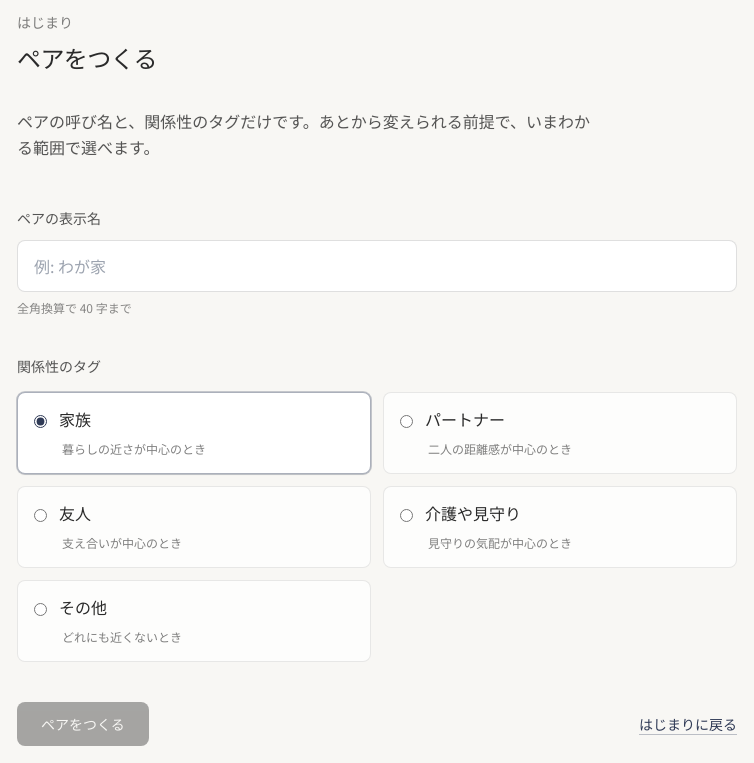
Scenario: OnboardingCreatePairPage › 表示名を入れると送信できる
In the field labelled "ペアの表示名": x=377, y=266 [17,240,737,292], type "わが家"
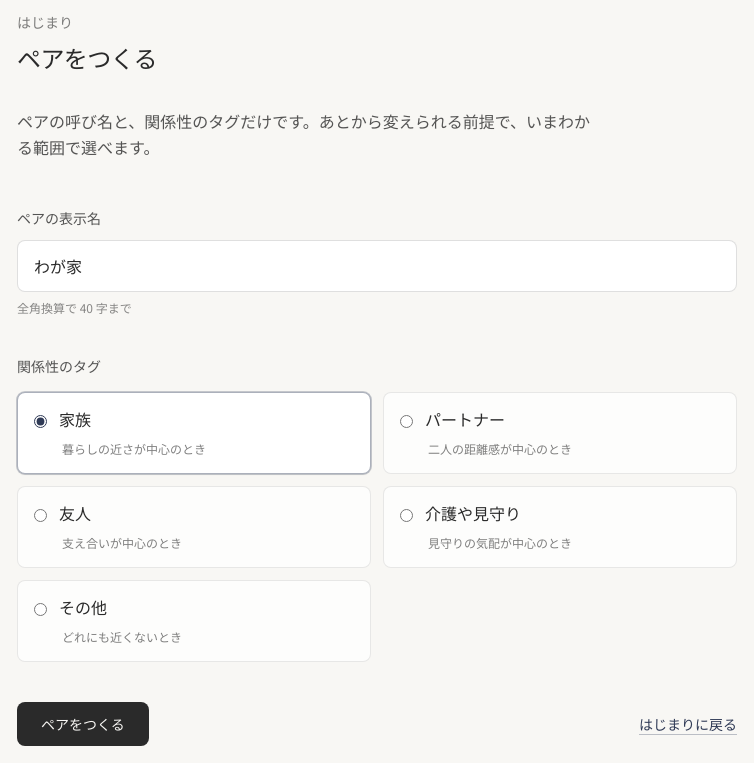
expect the button "ペアをつくる" is enabled: met, box [17,702,149,746]
